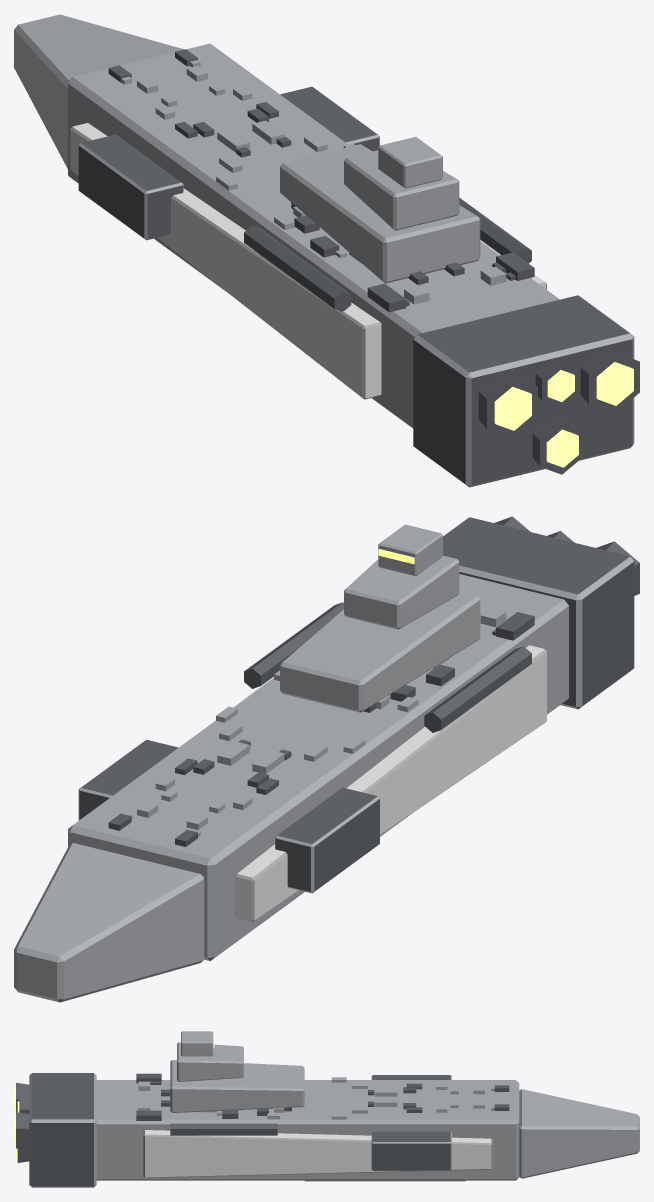
File: human_battleship_mk1.glb
3 views of the same model, one above another, from view 1: azimuth 30°, elevation 25°; view 2: azimuth 150°, elevation 25°; view 3: azimuth 270°, elevation 25° (orthographic). The views are drawn at different scales.
Parts seen in each view (by area): view 1: human_battleship_mk1_LOD0; view 2: human_battleship_mk1_LOD0; view 3: human_battleship_mk1_LOD0.
Boxes of the visible parts, left/top/right/bottom form: human_battleship_mk1_LOD0: left=14, top=14, right=639, bottom=487; human_battleship_mk1_LOD0: left=14, top=516, right=639, bottom=1002; human_battleship_mk1_LOD0: left=14, top=1031, right=639, bottom=1187.
Size of what is drawn, in the model's own units: 12 by 11.3 by 46.65.
